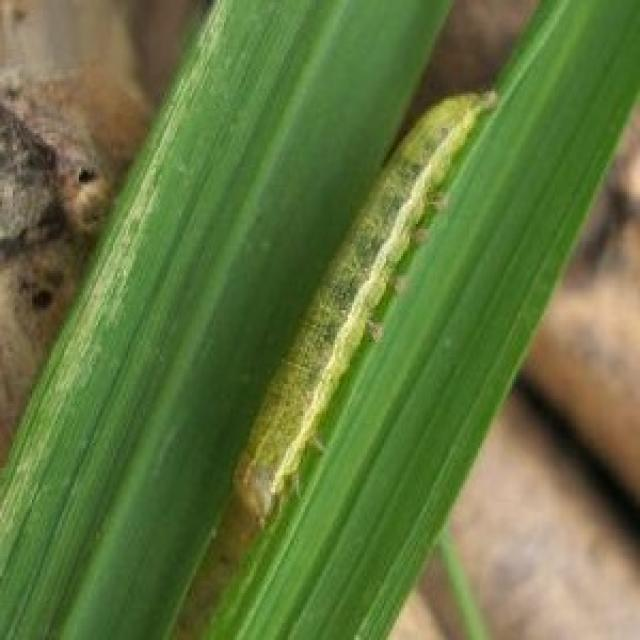army worm: (220, 81, 508, 531)
